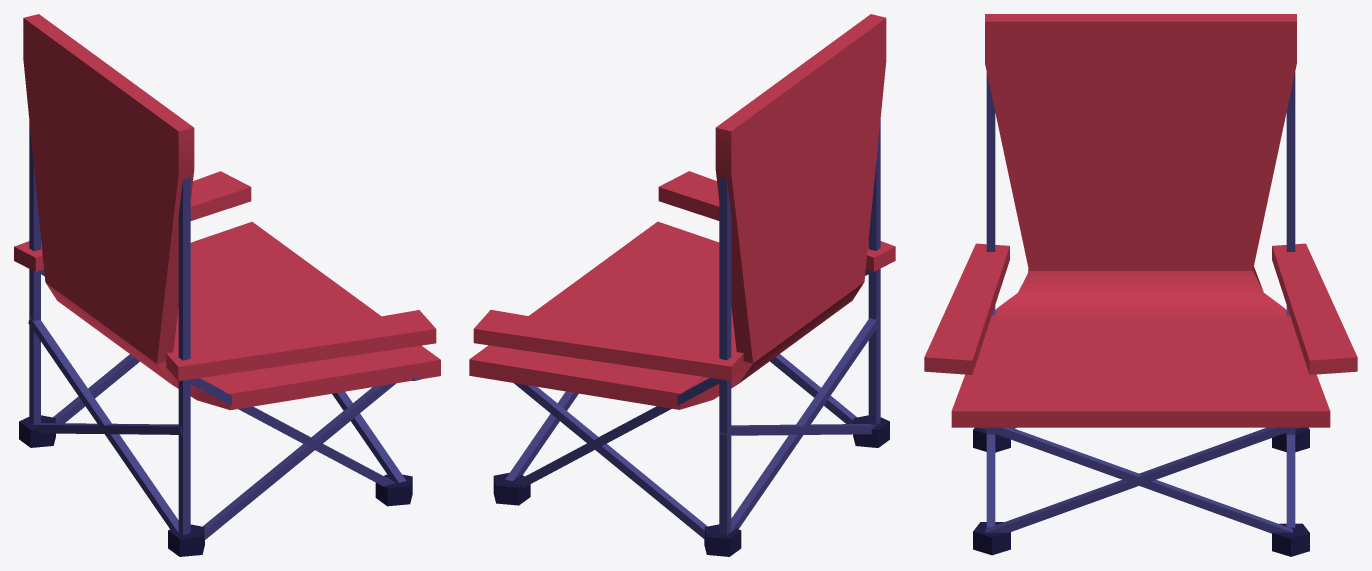
File: chair03_export.fbx
3 renders of one model, left to right at view 1: azimuth 30°, elevation 25°; view 2: azimuth 150°, elevation 25°; view 3: azimuth 270°, elevation 25°, orthographic.
Parts seen in each view (by area): view 1: pCube3, pCube4, pCube5, pCube15, pCube10, pCube7, pCube6, pCube8, pCube14, pCube12, pCube11, pCylinder2 (+2 smaller); view 2: pCube3, pCube7, pCube6, pCube14, pCube11, pCube5, pCube4, pCube9, pCube15, pCube13, pCube10, pCylinder3 (+2 smaller); view 3: pCube3, pCube7, pCube4, pCube12, pCube13, pCube6, pCube5, pCylinder4, pCube9, pCube8, pCylinder1, pCylinder3 (+1 smaller).
Boxes of the visible parts, x1=… form: pCube3: x1=23, y1=14, x2=440, y2=410; pCube4: x1=166, y1=310, x2=436, y2=381; pCube5: x1=178, y1=177, x2=190, y2=534; pCube15: x1=28, y1=317, x2=178, y2=531; pCube10: x1=203, y1=383, x2=395, y2=540; pCube7: x1=14, y1=171, x2=251, y2=271; pCube6: x1=29, y1=122, x2=40, y2=424; pCube8: x1=190, y1=378, x2=394, y2=486; pCube14: x1=31, y1=423, x2=182, y2=434; pCube12: x1=332, y1=391, x2=406, y2=482; pCube11: x1=53, y1=354, x2=139, y2=423; pCylinder2: x1=168, y1=524, x2=204, y2=556; pCube3: x1=469, y1=14, x2=886, y2=409; pCube7: x1=473, y1=309, x2=743, y2=380; pCube6: x1=719, y1=177, x2=731, y2=534; pCube14: x1=730, y1=316, x2=880, y2=532; pCube11: x1=514, y1=383, x2=707, y2=539; pCube5: x1=868, y1=120, x2=880, y2=425; pCube4: x1=658, y1=171, x2=895, y2=271; pCube9: x1=515, y1=378, x2=724, y2=487; pCube15: x1=720, y1=424, x2=876, y2=435; pCube13: x1=505, y1=391, x2=578, y2=481; pCube10: x1=770, y1=354, x2=856, y2=423; pCylinder3: x1=704, y1=524, x2=741, y2=556; pCube3: x1=951, y1=14, x2=1330, y2=427; pCube7: x1=1272, y1=243, x2=1357, y2=374; pCube4: x1=924, y1=243, x2=1009, y2=374; pCube12: x1=985, y1=427, x2=1299, y2=533; pCube13: x1=978, y1=427, x2=1292, y2=533; pCube6: x1=1286, y1=72, x2=1295, y2=251; pCube5: x1=986, y1=72, x2=995, y2=251; pCylinder4: x1=1272, y1=523, x2=1309, y2=556; pCube9: x1=1286, y1=305, x2=1295, y2=527; pCube8: x1=986, y1=305, x2=995, y2=527; pCylinder1: x1=973, y1=522, x2=1010, y2=555; pCylinder3: x1=1272, y1=427, x2=1309, y2=452.
Size of the model in its own units: 1.22 by 1.98 by 1.82.
